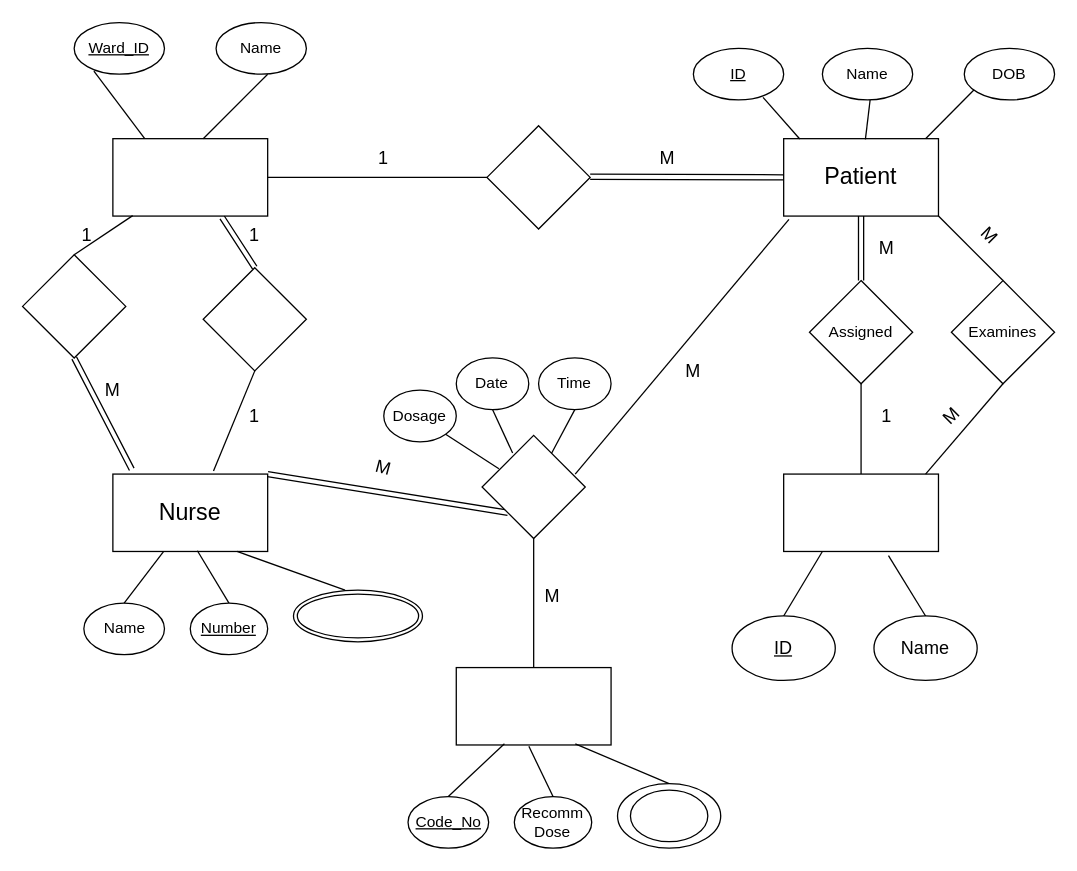
The diagram is 1077 pixels wide and 871 high, and some of its shapes have lost their labels. Each missing label, with the centre of its shape:
Address: point 357,615
Brand: point 668,815
Consultants: point 860,512
Drug: point 533,705
Gives: point 533,486
Host: point 538,176
Serve in: point 73,305
Supervise: point 254,318
Ward: point 190,176
